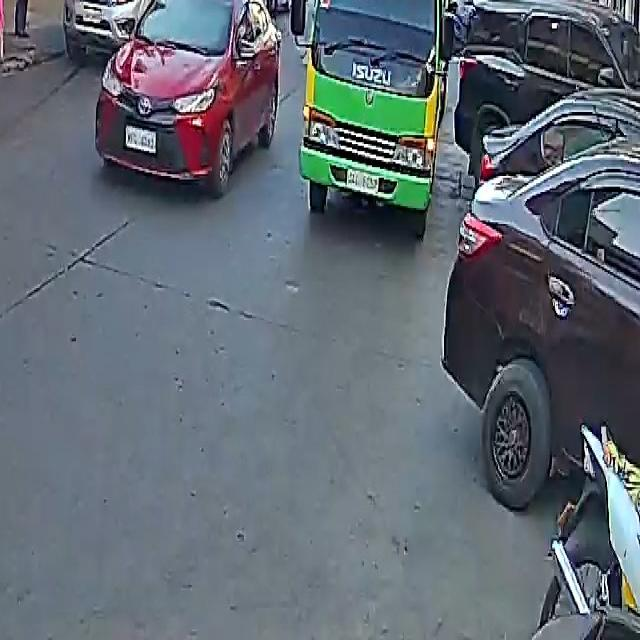car: (443, 62, 640, 529), (97, 0, 286, 192), (448, 0, 639, 185), (58, 0, 195, 60)
